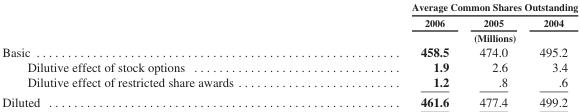table: (1, 1, 577, 109)
table column: (1, 1, 322, 109), (322, 1, 463, 109), (463, 1, 522, 109), (522, 1, 577, 109)
table column header: (1, 1, 577, 43)
table row: (1, 91, 577, 109), (1, 74, 577, 91), (1, 58, 577, 74), (1, 14, 577, 29), (1, 43, 577, 58), (1, 29, 577, 43), (1, 1, 577, 14)
table spanning cell: (322, 29, 577, 43), (322, 1, 577, 14)
